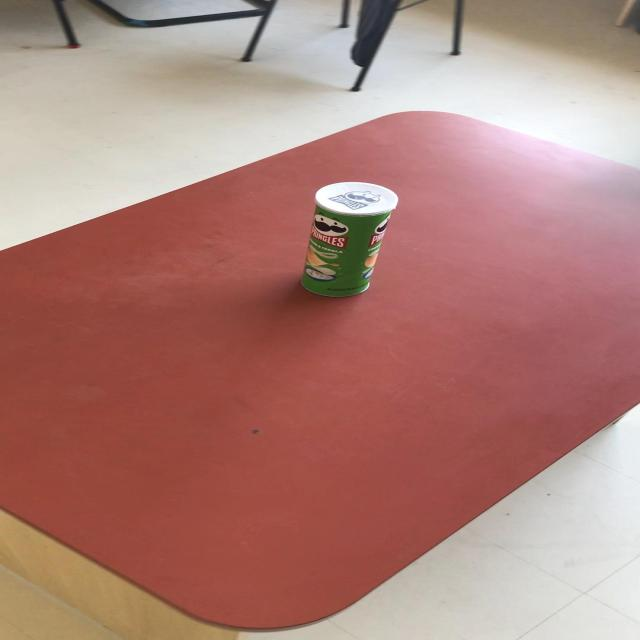a pringles: (298, 180, 398, 297)
